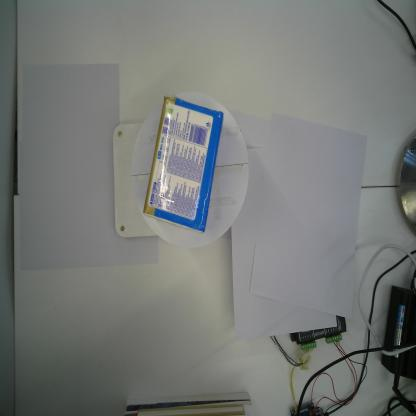Tissue: (142, 94, 224, 236)
